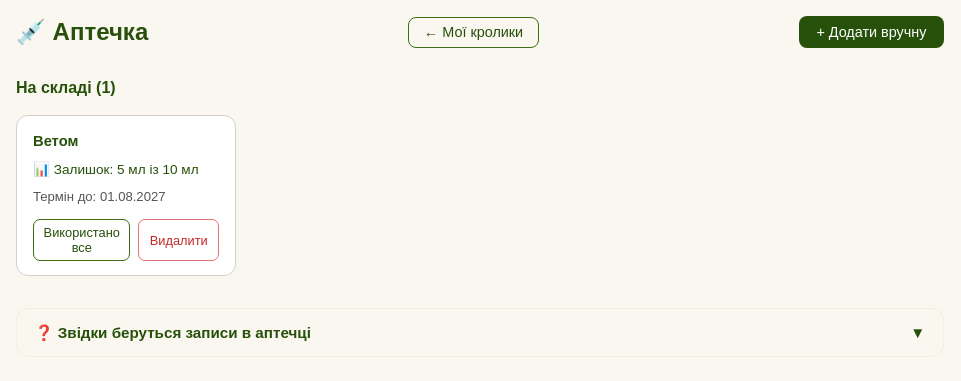
Test: AptechkaPage: помилки Supabase › залишок: успіх зберігає значення і закриває поле
This screenshot has width=961, height=381.
Click the button "📊 Залишок: 5 мл із 10 мл" at (126, 170), box [33,159,219,181]
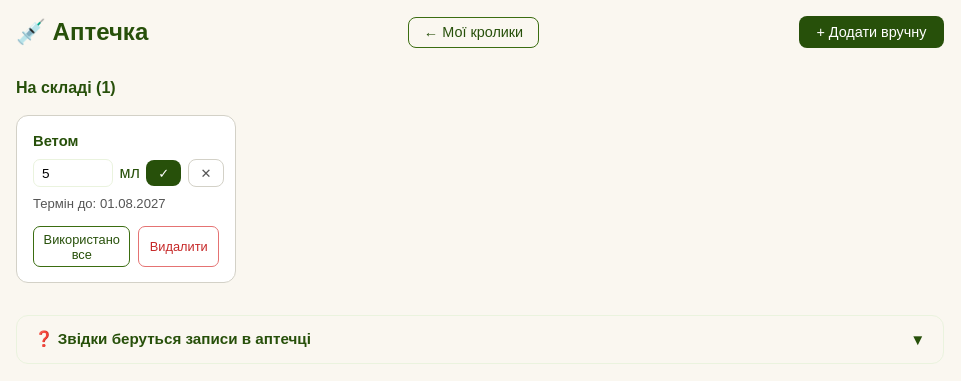
Replace the text in the number field with id "aptechka-remaining-b-1" with "3" at (73, 173), box [33,159,113,187]
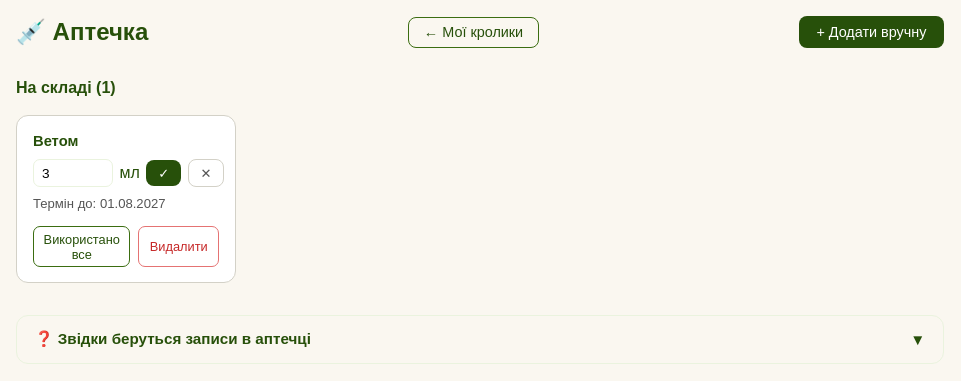
Click the button "✓" at (164, 173), box [146,160,181,186]
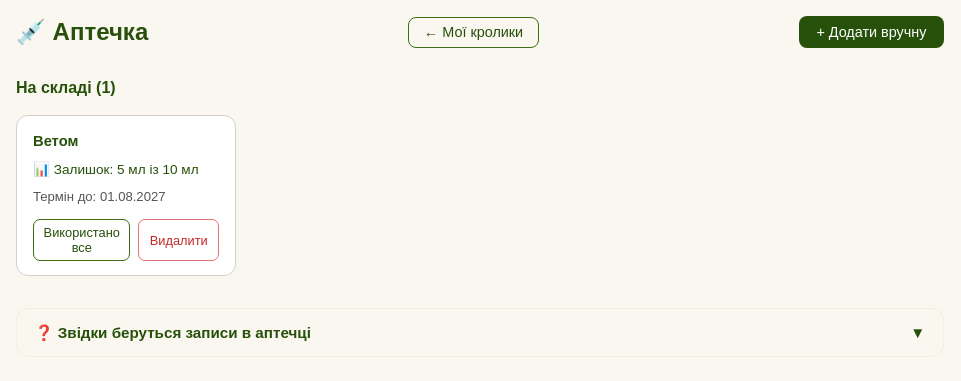
Result: the number field with id "aptechka-remaining-b-1" is gone
